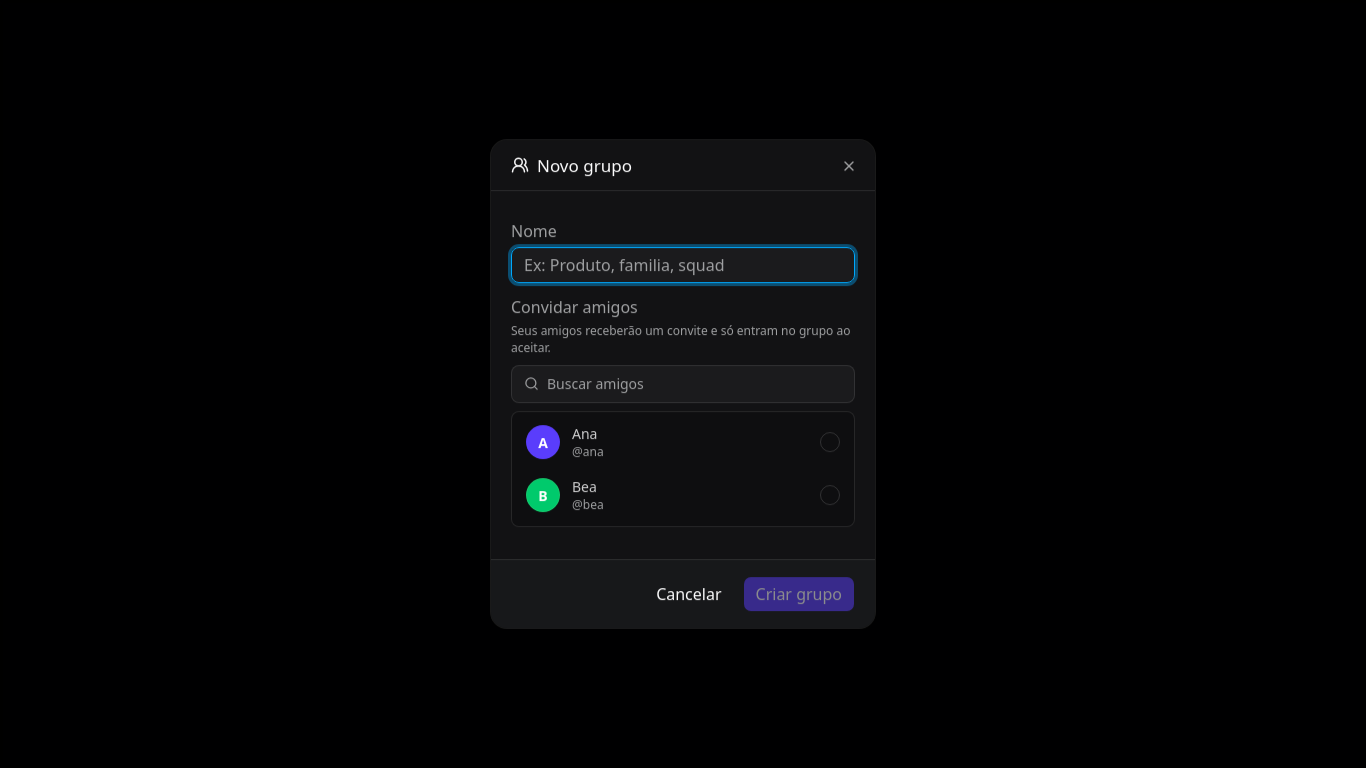
Test: GroupCreateDialog › network error keeps the form filled in
Type "Squad" into the field labelled "Nome" at (683,265), box x1=511 y1=247 x2=855 y2=283
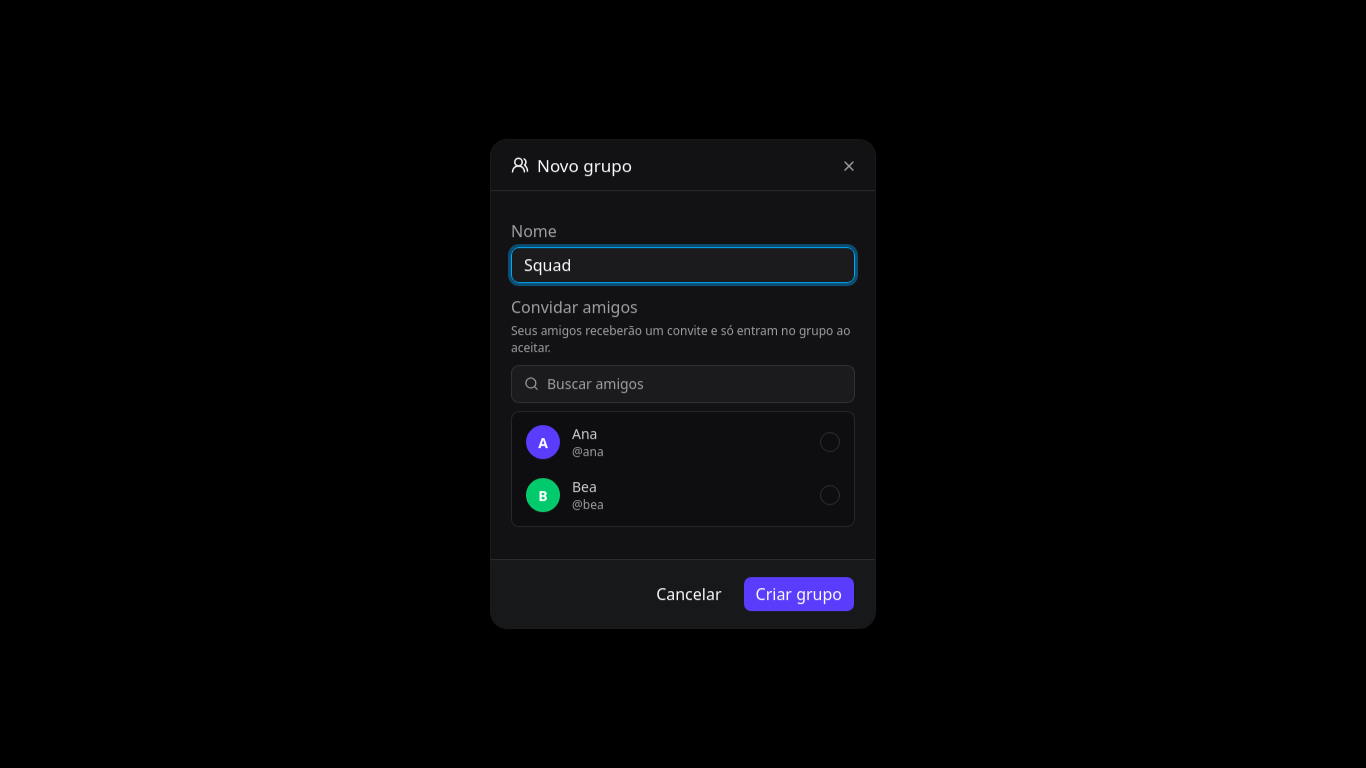
Click the button "Criar grupo" at (799,594), box x1=742 y1=576 x2=855 y2=612
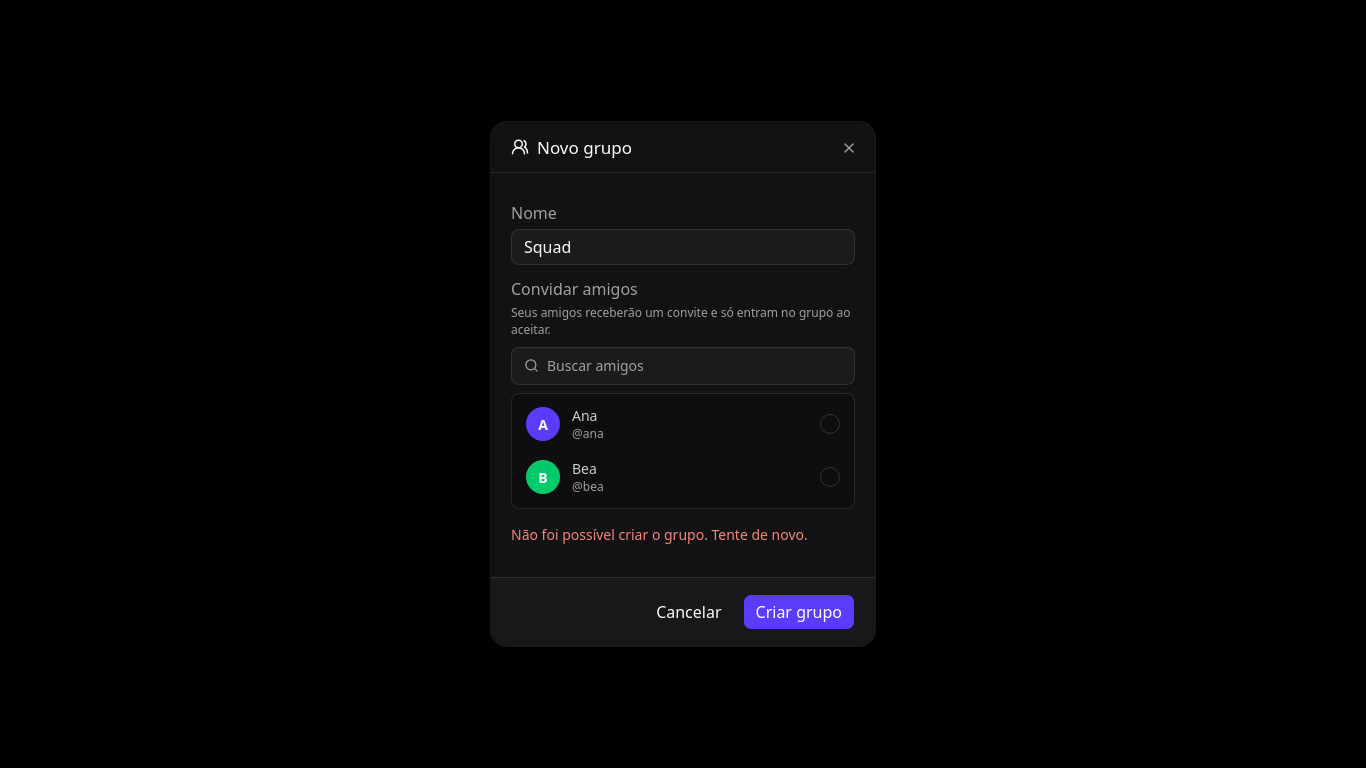
Expected: the message shows "Não foi possível criar", x1=511 y1=525 x2=808 y2=544
